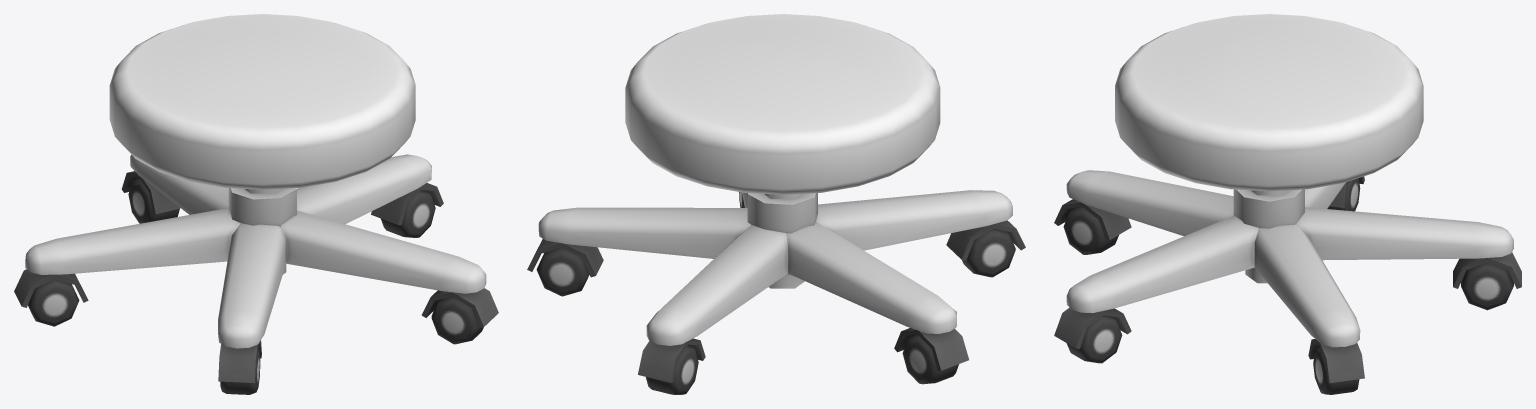
File: Pfb_RoundStools.fbx
3 renders of one model, left to right at view 1: azimuth 30°, elevation 25°; view 2: azimuth 150°, elevation 25°; view 3: azimuth 270°, elevation 25°, orthographic. The views are drawn at different scales.
Visible parts, largest first — view 1: MAT_RoundStools_Black; view 2: MAT_RoundStools_Black; view 3: MAT_RoundStools_Black.
Boxes of the visible parts, x1,y1,x2,y2 form: MAT_RoundStools_Black: [14, 14, 498, 394]; MAT_RoundStools_Black: [527, 14, 1025, 394]; MAT_RoundStools_Black: [1054, 14, 1521, 394].
Bounding box in the file's own units: 0.9878 × 0.5177 × 0.9394.
1 material, 1 textured.
